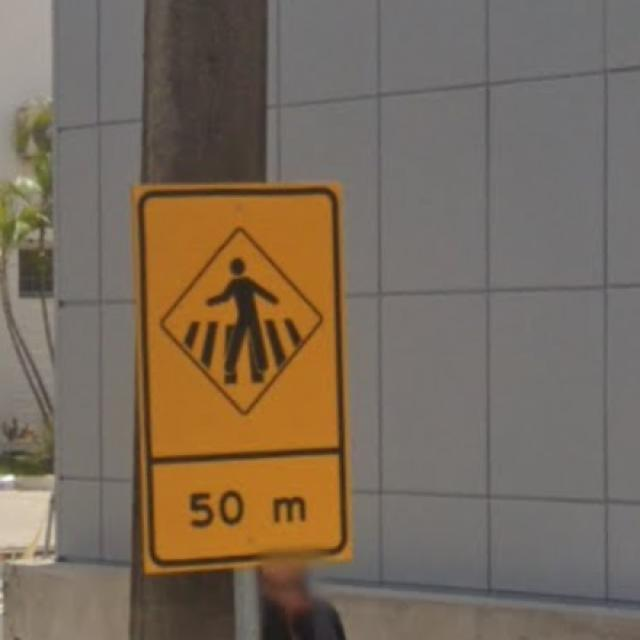pedestrian crossing: (124, 167, 382, 581)
